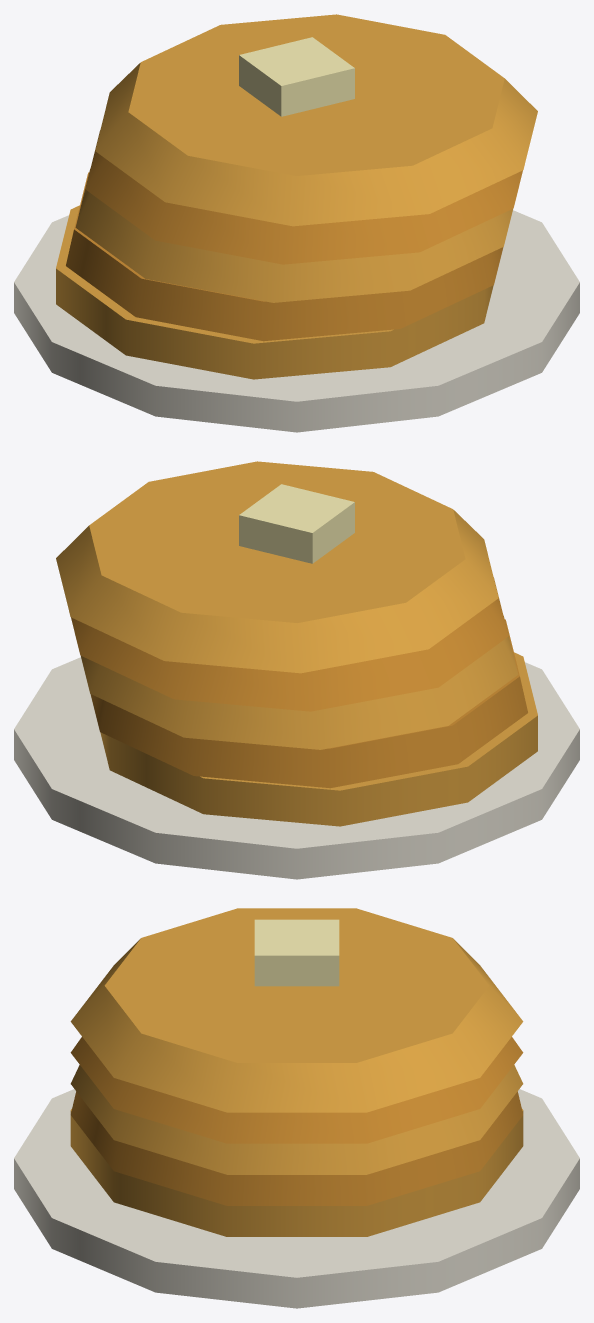
The model's file is item-blin.glb.
The picture shows the model from 3 angles, top to bottom: view 1: azimuth 30°, elevation 25°; view 2: azimuth 150°, elevation 25°; view 3: azimuth 270°, elevation 25°; orthographic projection.
Visible parts, largest first — view 1: #d8a040_noshadow, #e4e0d4, #c88a30_noshadow, #f0e8b0_noshadow; view 2: #d8a040_noshadow, #e4e0d4, #c88a30_noshadow, #f0e8b0_noshadow; view 3: #d8a040_noshadow, #e4e0d4, #c88a30_noshadow, #f0e8b0_noshadow.
Boxes of the visible parts, left/top/right/bottom form: #d8a040_noshadow: left=56, top=14, right=537, bottom=379; #e4e0d4: left=14, top=210, right=579, bottom=432; #c88a30_noshadow: left=66, top=130, right=522, bottom=341; #f0e8b0_noshadow: left=239, top=37, right=354, bottom=116; #d8a040_noshadow: left=56, top=461, right=537, bottom=826; #e4e0d4: left=14, top=657, right=579, bottom=879; #c88a30_noshadow: left=71, top=577, right=527, bottom=788; #f0e8b0_noshadow: left=239, top=484, right=354, bottom=563; #d8a040_noshadow: left=70, top=908, right=523, bottom=1236; #e4e0d4: left=14, top=1089, right=579, bottom=1308; #c88a30_noshadow: left=70, top=1037, right=523, bottom=1205; #f0e8b0_noshadow: left=254, top=919, right=339, bottom=986.
Bounding box in the file's own units: 0.2 × 0.098 × 0.2.
